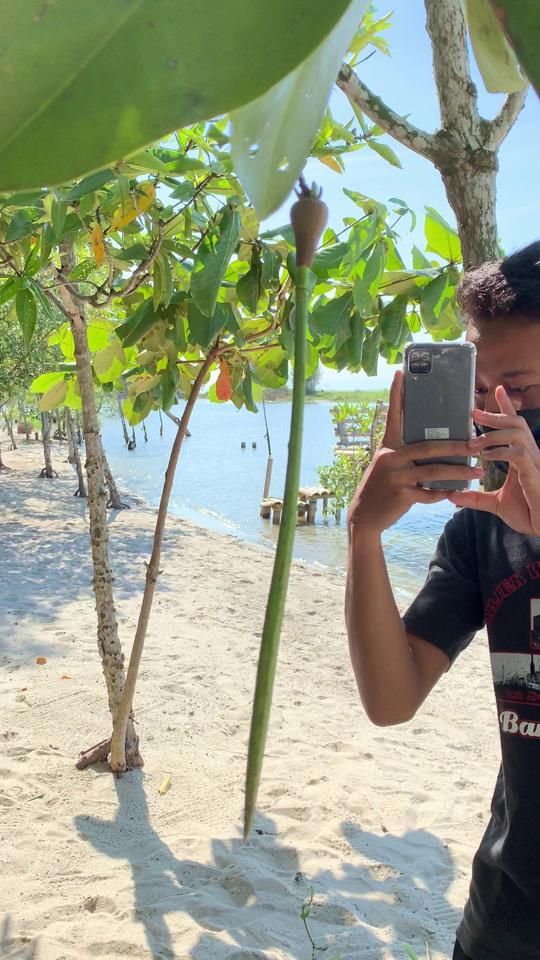setengah matang: (230, 178, 333, 852)
